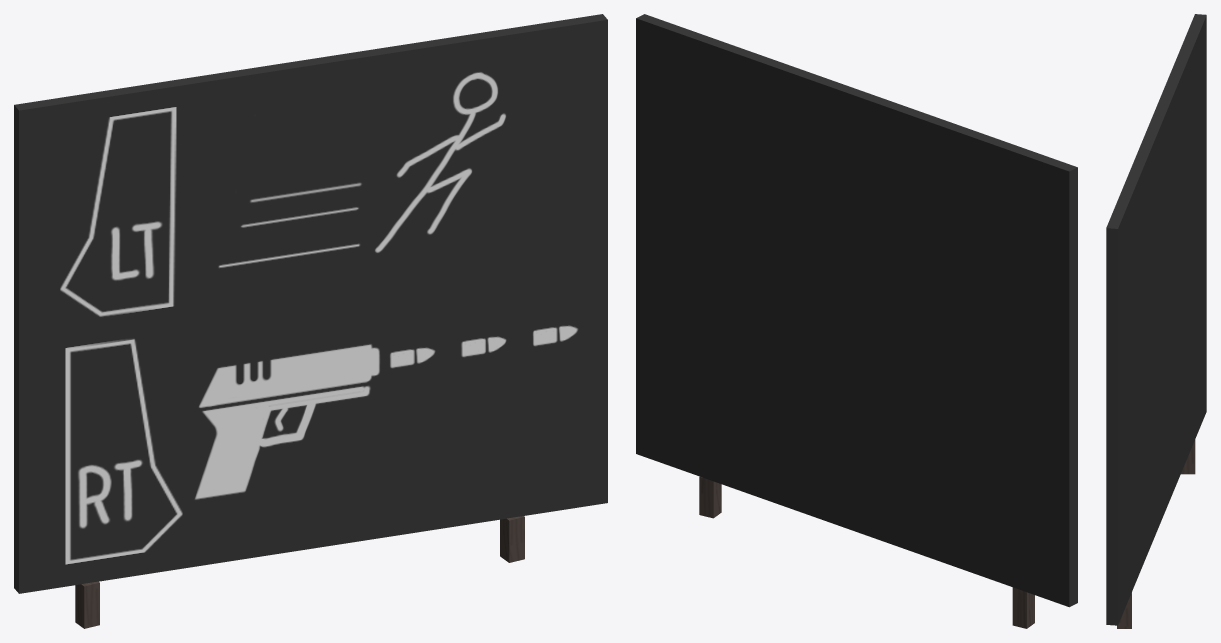
Rendered from shortSign.obj.
The picture shows the model from 3 angles, left to right: view 1: azimuth 30°, elevation 25°; view 2: azimuth 150°, elevation 25°; view 3: azimuth 270°, elevation 25°; orthographic projection. The views are drawn at different scales.
Visible parts, largest first — view 1: Cube.001; view 2: Cube.001; view 3: Cube.001.
Boxes of the visible parts, box(x1,y1,x2,y2) form: Cube.001: box(14, 14, 607, 628); Cube.001: box(636, 14, 1077, 628); Cube.001: box(1106, 14, 1206, 628).
Size of the model in its own units: 19.34 by 18.1 by 3.82.
1 material, 1 textured.
